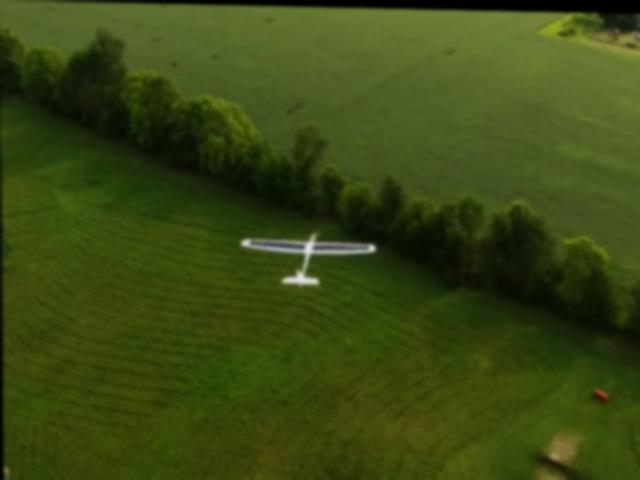uav: (232, 221, 383, 294)
